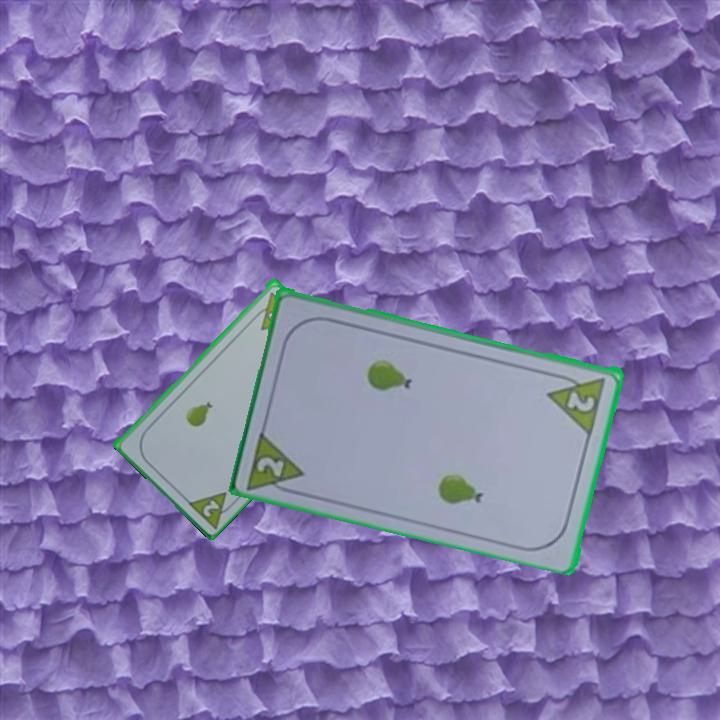2p: (244, 426, 308, 499), (544, 368, 609, 436), (183, 487, 239, 531)
